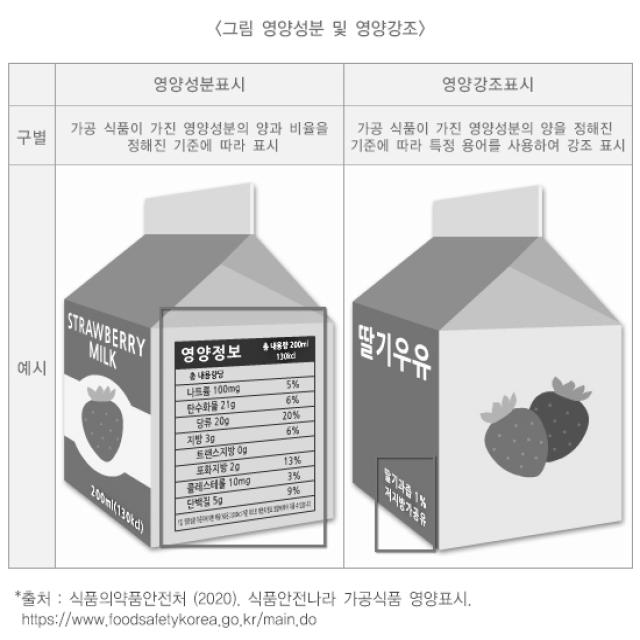Nutrition Label: (168, 330, 322, 538)
